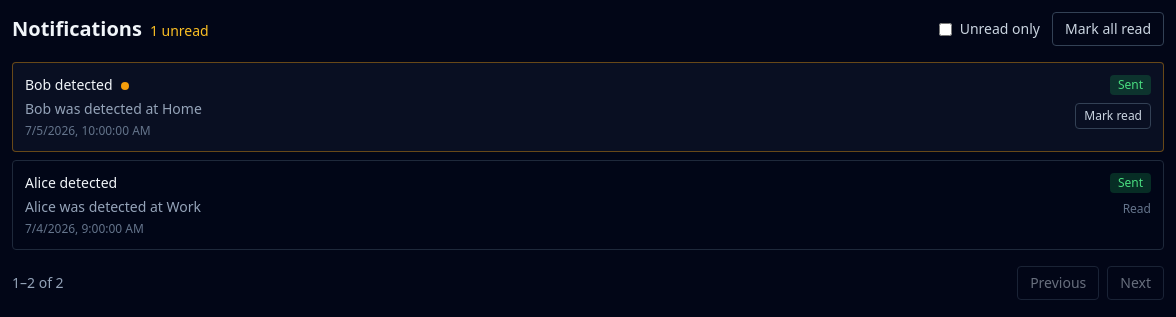
Test case: "unread only" toggle refetches with unread_only=true
The width and height of the screenshot is (1176, 317).
Check: the list item with test id "notification-row-notif-2" is shown, box [12,160,1164,250]
Click the checkbox labelled "Unread only" at (945, 29), box [939,22,952,36]
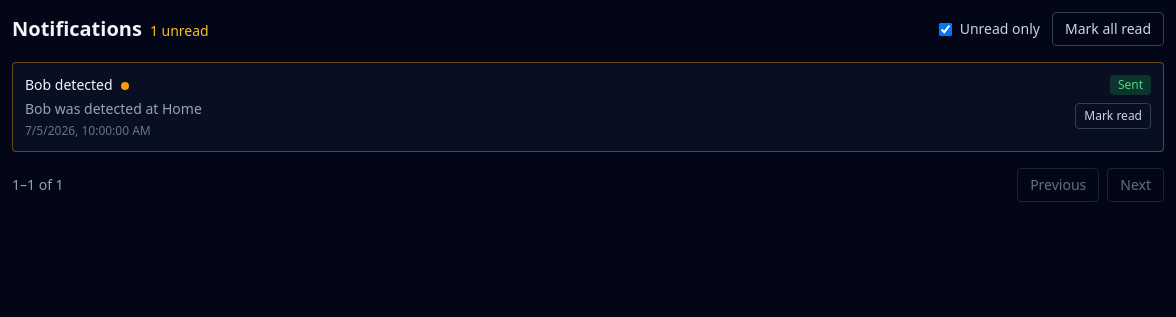
Check: the list item with test id "notification-row-notif-1" is shown, box [12,62,1164,152]
Check: the list item with test id "notification-row-notif-2" is gone
